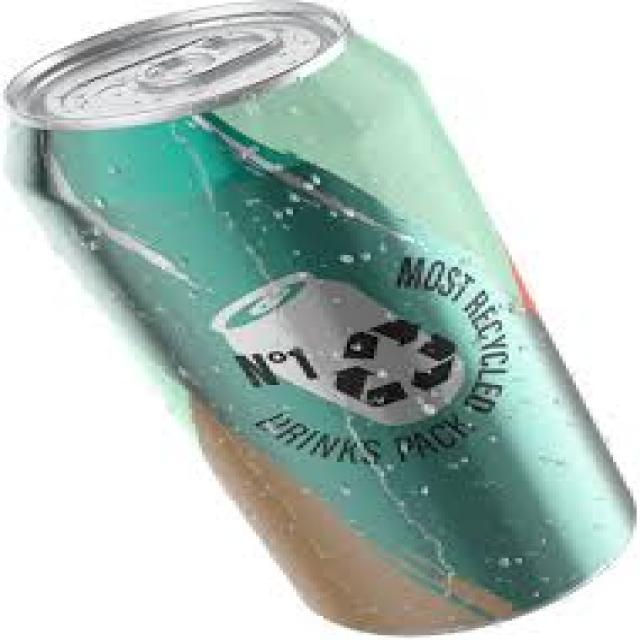metal: (0, 0, 637, 636)
